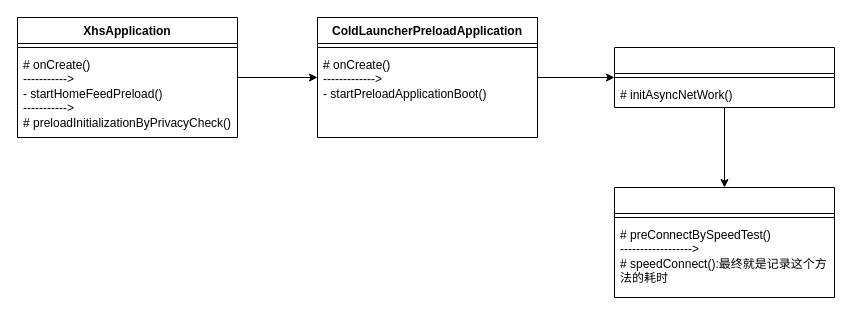
The diagram is 852 pixels wide and 318 high, and some of its shapes have lost their labels. The shapes that lost their labels are listed below. From the top down, each one's box as (x1, y1, x2, y2) in pixels, then its label:
(614, 46, 834, 108): ColdLaunchPreLoadFactory
(614, 186, 834, 298): XhsNetworkModule
